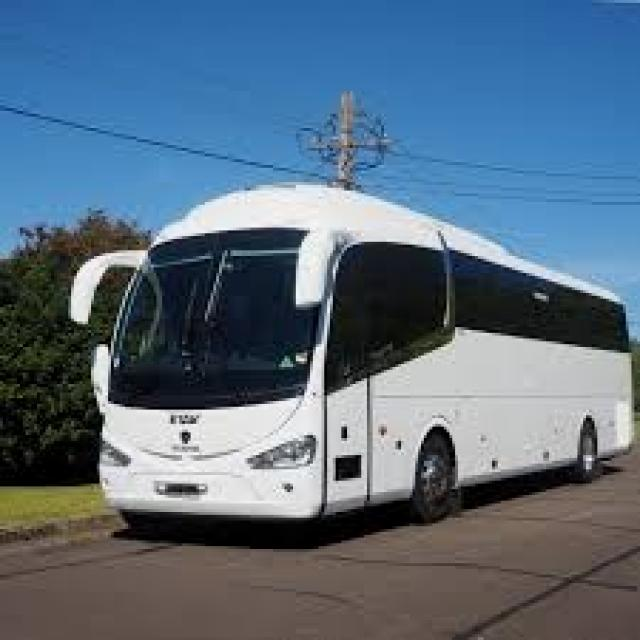bus: (46, 157, 640, 535)
